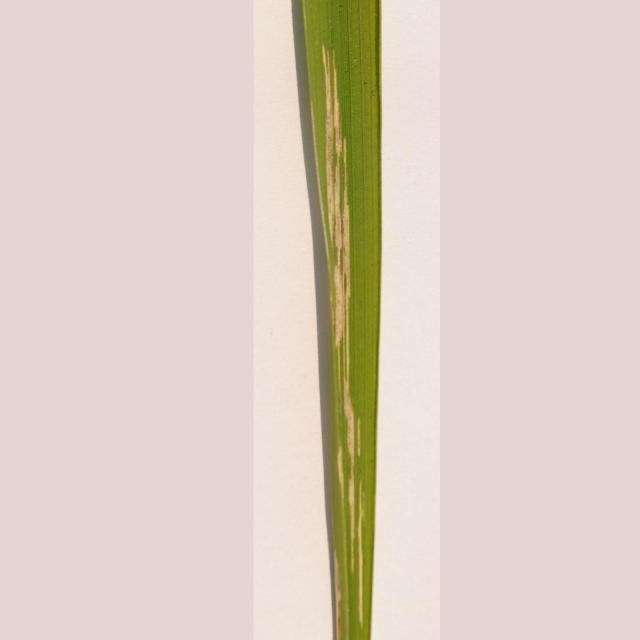leaf blight: (302, 37, 377, 637)
